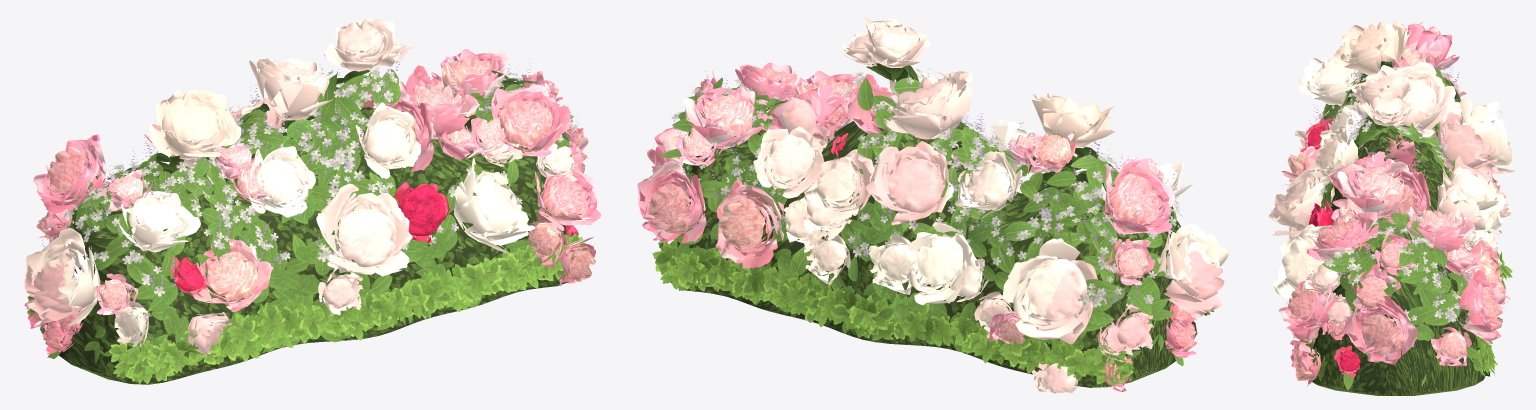
The model's file is FlowerBank_1m_sample_A_1002_v19.glb.
3 views of the same model, side by side, from view 1: azimuth 30°, elevation 25°; view 2: azimuth 150°, elevation 25°; view 3: azimuth 270°, elevation 25° (orthographic). The views are drawn at different scales.
Visible parts, largest first — view 1: FlowerBank_1m; view 2: FlowerBank_1m; view 3: FlowerBank_1m.
Boxes of the visible parts, bbox=[...] form: FlowerBank_1m: bbox=[24, 18, 601, 384]; FlowerBank_1m: bbox=[637, 17, 1228, 393]; FlowerBank_1m: bbox=[1268, 20, 1514, 395].
Size of the model in its own units: 1.29 by 0.5844 by 0.5774.
6 materials, 5 textured.
